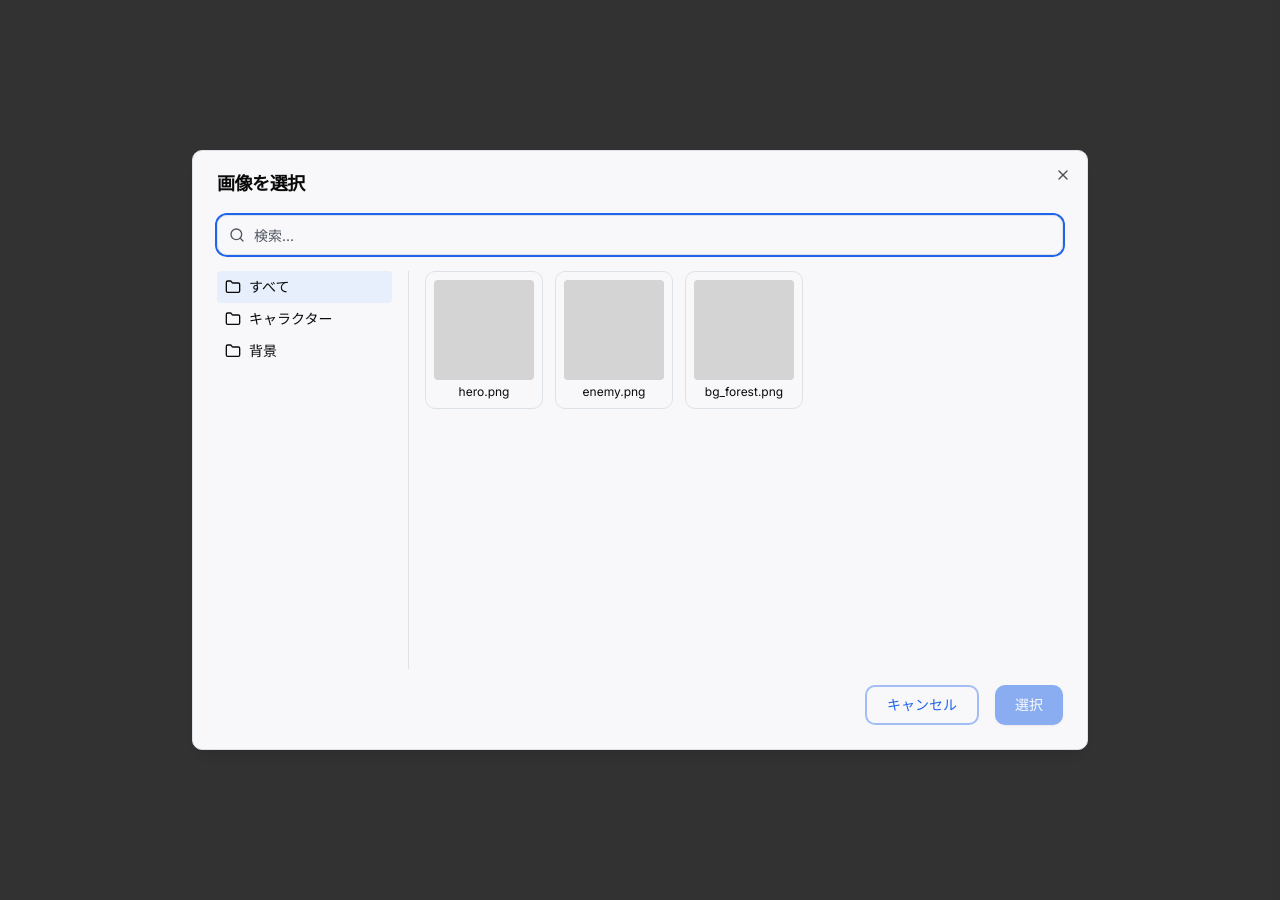
AssetPickerModal › 検索機能 › 検索するとマッチするアセットのみ表示する
Type "hero" into the field with placeholder "検索...". click: (640, 235)
box: [217,215,1063,255]
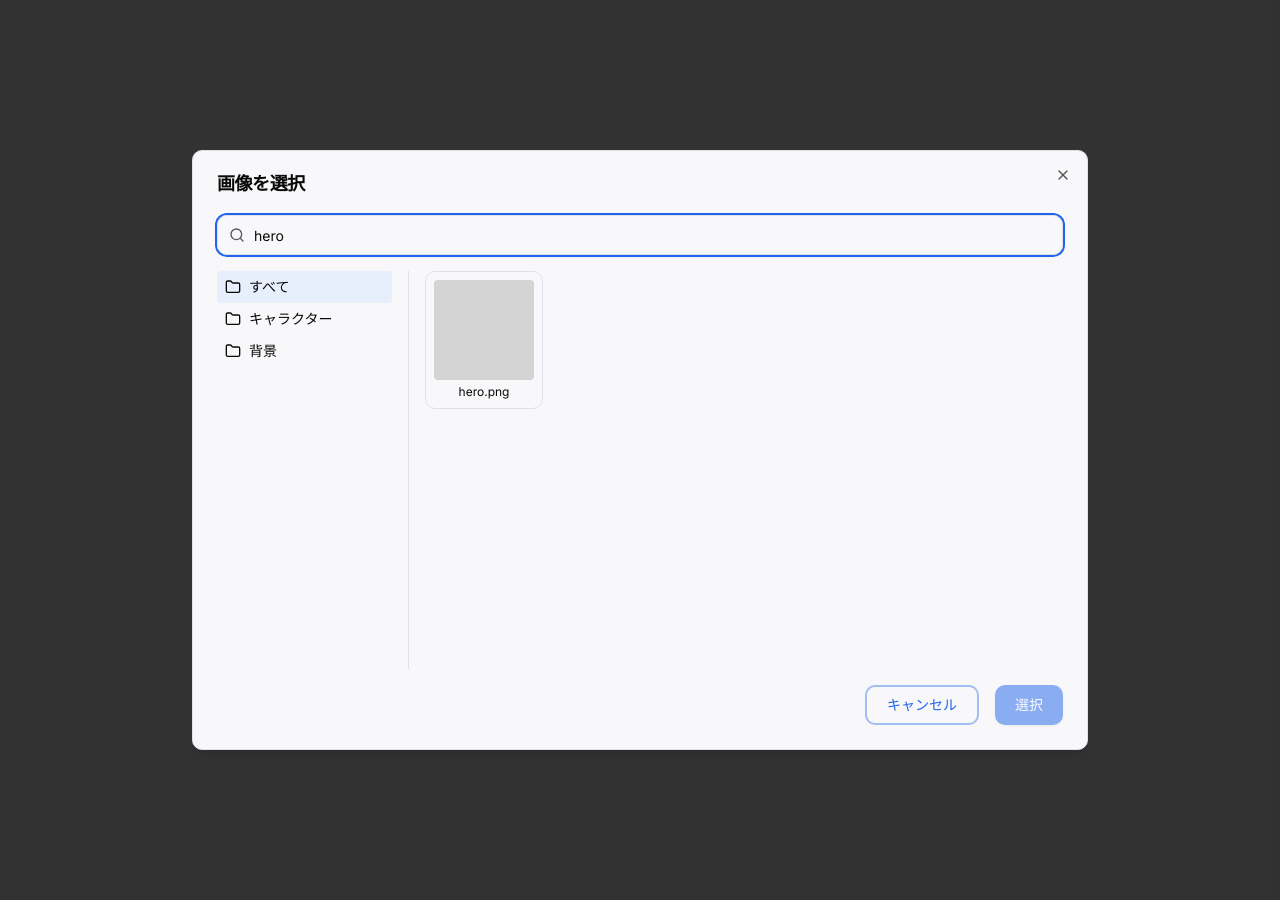
Expected: the text "hero.png" is shown, [459,384,510,399]
Expected: the text "enemy.png" is gone
Expected: the text "bg_forest.png" is gone
